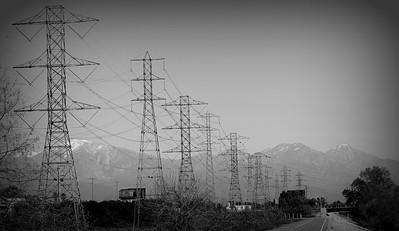power_tower: (8, 1, 103, 204), (130, 49, 167, 201), (172, 89, 208, 195), (221, 126, 248, 203)
